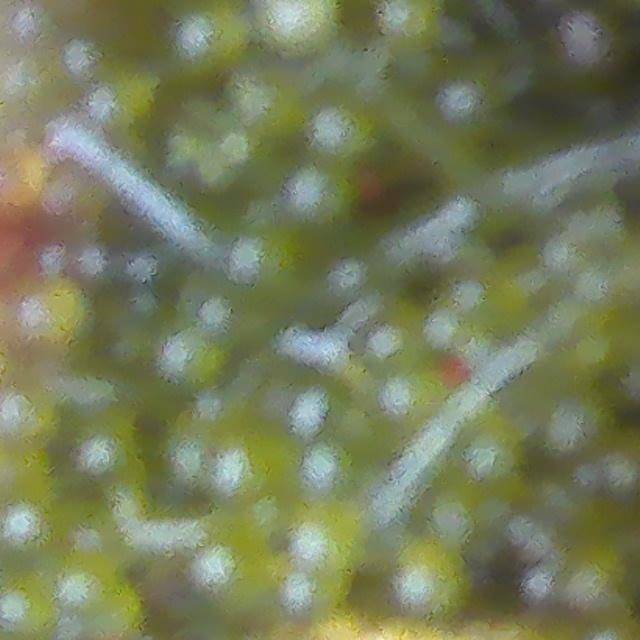SeaGrape: (545, 5, 633, 89), (164, 0, 254, 75), (45, 547, 127, 629), (287, 506, 361, 584), (391, 543, 462, 619), (157, 333, 227, 402), (189, 538, 261, 605), (265, 0, 341, 56), (209, 444, 273, 506), (273, 565, 337, 619), (0, 585, 57, 640), (0, 505, 48, 555)
